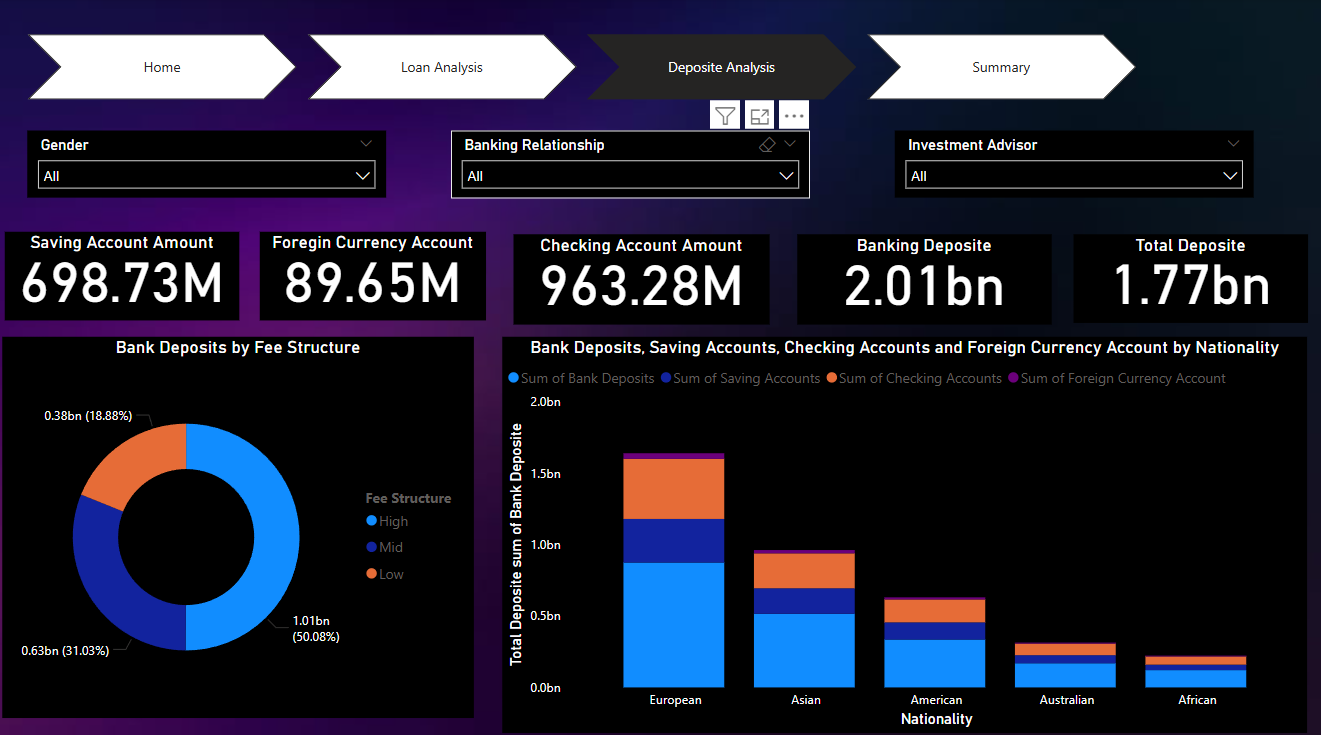

Layout of this report page (visuals, bound fields, positions):
{"tool":"powerbi","page":{"name":"Deposite Analysis","canvas":[1280,720],"ordinal":2},"visuals":[{"type":"pageNavigator","box":[30.2,35,1070.1,63.9],"z":0},{"type":"slicer","fields":{"Values":["Table_2.Gender"]},"box":[30.2,127.9,346.2,65.1],"z":1000},{"type":"slicer","fields":{"Values":["Table_3.Banking Relationship"]},"box":[439.1,127.9,346.2,65.1],"z":2000},{"type":"slicer","fields":{"Values":["Table_4.Investment Advisor"]},"box":[867.4,127.9,346.2,65.1],"z":3000},{"type":"card","title":"Saving Account Amount","fields":{"Values":["Sum(Clients - Banking.Saving Accounts)"]},"box":[8,226.1,226.1,86],"z":4000},{"type":"card","title":"Foregin Currency Account","fields":{"Values":["Sum(Clients - Banking.Foreign Currency Account)"]},"box":[254.8,226.1,218.2,86],"z":5000},{"type":"card","title":"Checking Account Amount","fields":{"Values":["Sum(Clients - Banking.Checking Accounts)"]},"box":[500,227.7,246.8,87.6],"z":6000},{"type":"card","title":"Banking Deposite","fields":{"Values":["Sum(Clients - Banking.Bank Deposits)"]},"box":[773.9,227.7,245.2,87.6],"z":7000},{"type":"card","title":"Total Deposite","fields":{"Values":["Sum(Clients - Banking.Bank Loans)"]},"box":[1039.9,227.7,226.1,86],"z":8000},{"type":"donutChart","title":"Bank Deposits by Fee Structure","fields":{"Category":["Clients - Banking.Fee Structure"],"Y":["Sum(Clients - Banking.Bank Deposits)"]},"box":[6.4,326.5,455.4,367.9],"z":9000},{"type":"lineStackedColumnComboChart","title":"Bank Deposits, Saving Accounts, Checking Accounts and Foreign Currency Account by Nationality","fields":{"Category":["Clients - Banking.Nationality"],"Y":["Sum(Clients - Banking.Bank Deposits)","Sum(Clients - Banking.Saving Accounts)","Sum(Clients - Banking.Checking Accounts)","Sum(Clients - Banking.Foreign Currency Account)"]},"box":[488.9,326.5,777.1,382.2],"z":10000}]}

Visuals, with their boxes in screenshot pixels (x1, y1, x2, y2), scaled from the page's 1280x720 canvas onto the 1321x735 screenshot:
pageNavigator: x1=31, y1=36, x2=1136, y2=101
slicer - Table_2.Gender: x1=31, y1=131, x2=388, y2=197
slicer - Table_3.Banking Relationship: x1=453, y1=131, x2=810, y2=197
slicer - Table_4.Investment Advisor: x1=895, y1=131, x2=1252, y2=197
"Saving Account Amount" card: x1=8, y1=231, x2=242, y2=319
"Foregin Currency Account" card: x1=263, y1=231, x2=488, y2=319
"Checking Account Amount" card: x1=516, y1=232, x2=771, y2=322
"Banking Deposite" card: x1=799, y1=232, x2=1052, y2=322
"Total Deposite" card: x1=1073, y1=232, x2=1307, y2=320
"Bank Deposits by Fee Structure" donutChart: x1=7, y1=333, x2=477, y2=709
"Bank Deposits, Saving Accounts, Checking Accounts and Foreign Currency Account by Nationality" lineStackedColumnComboChart: x1=505, y1=333, x2=1307, y2=723
